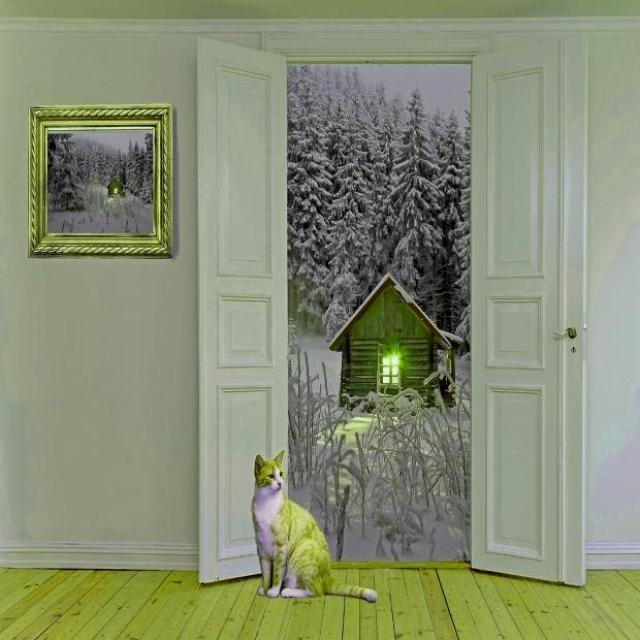door: (468, 32, 586, 586)
